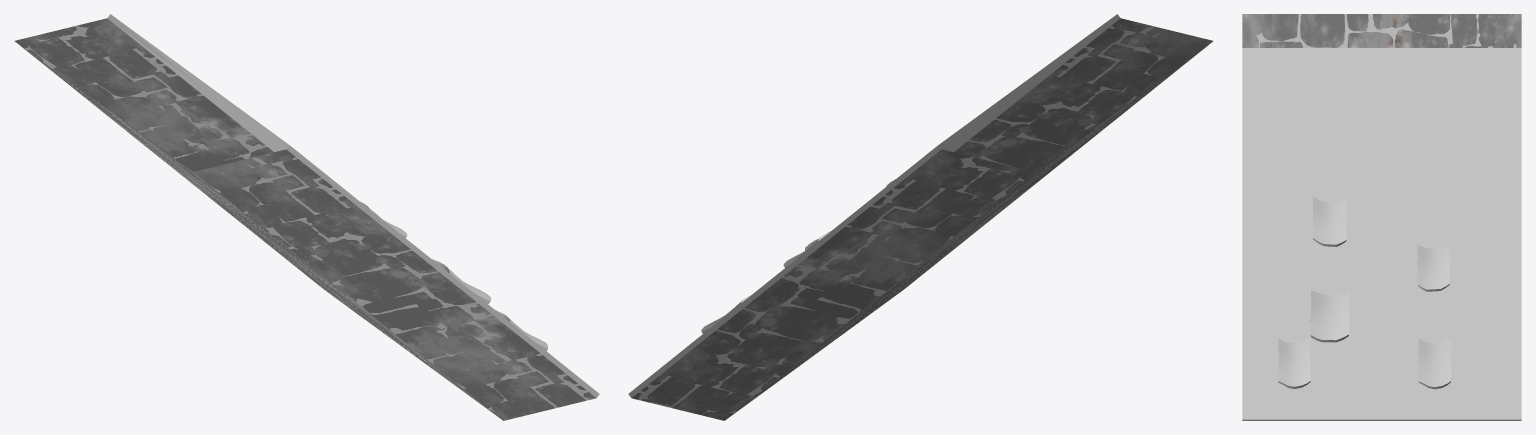
The model's file is Roof_Mid.fbx.
3 renders of one model, left to right at view 1: azimuth 30°, elevation 25°; view 2: azimuth 150°, elevation 25°; view 3: azimuth 270°, elevation 25°, orthographic. The views are drawn at different scales.
Visible parts, largest first — view 1: Wall.027, Plane.049; view 2: Wall.027, Plane.049; view 3: Plane.049, Wall.027.
Part boxes in pixels (x1=…): Wall.027: x1=14, y1=18, x2=595, y2=420; Plane.049: x1=107, y1=14, x2=599, y2=397; Wall.027: x1=632, y1=18, x2=1213, y2=420; Plane.049: x1=628, y1=14, x2=1120, y2=397; Plane.049: x1=1242, y1=48, x2=1521, y2=420; Wall.027: x1=1242, y1=14, x2=1521, y2=47.
Size of the model in its own units: 6.55 by 5.05 by 5.
